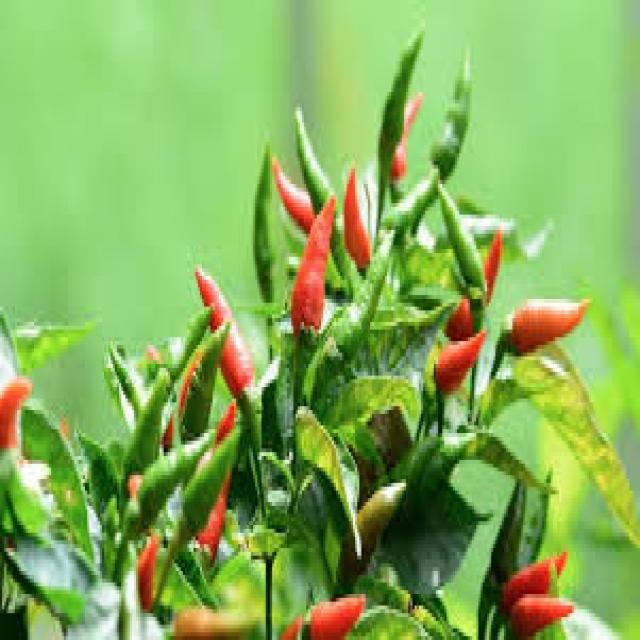Mosaic_virus: (176, 41, 623, 640), (0, 297, 198, 640)
